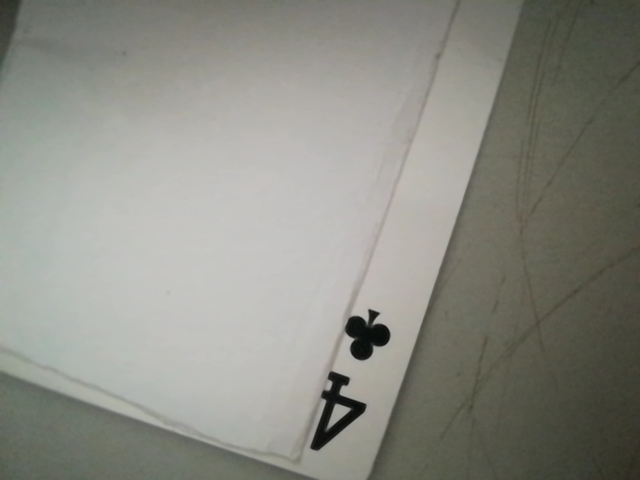mh 4: (298, 298, 403, 470)
